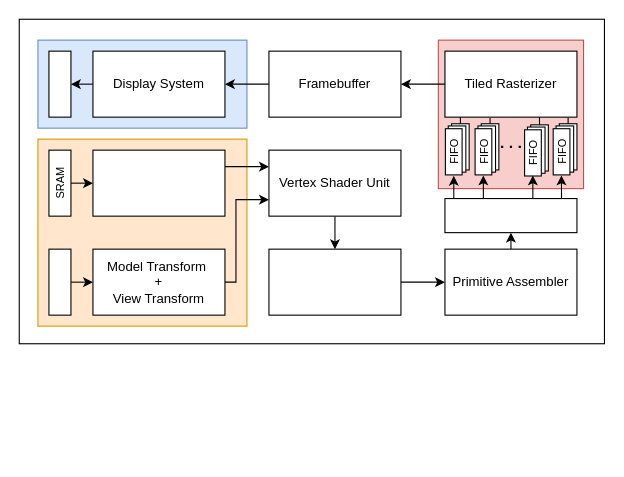
Some shapes in this 624 by 477 pixel diagram are drawn without their labels. The shapes that lost their labels are listed below. From the top down, each one's box as (x1, y1, x2, y2) in pixels, then its label:
(48, 50, 71, 117): VGA
(92, 149, 225, 216): Model Data R/W
(444, 197, 577, 233): Binner
(48, 248, 71, 315): MCU-SPI
(268, 248, 401, 315): Vertex Post-Processor
